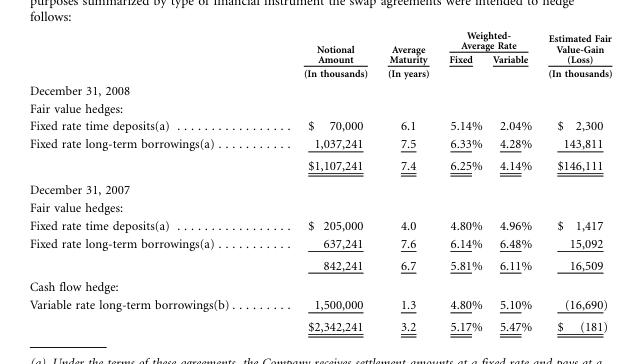table: (28, 29, 611, 333)
table column: (28, 29, 268, 333), (268, 29, 376, 333), (539, 29, 611, 333), (376, 29, 438, 333), (486, 29, 539, 333), (438, 29, 486, 333)
table column header: (28, 29, 611, 80)
table projected row header: (28, 177, 611, 198), (28, 275, 611, 295), (28, 80, 611, 99), (28, 198, 611, 216), (28, 99, 611, 116)
table row: (28, 51, 611, 80), (28, 154, 611, 177), (28, 29, 611, 51), (28, 177, 611, 198), (28, 254, 611, 275), (28, 134, 611, 154), (28, 234, 611, 254), (28, 275, 611, 295), (28, 295, 611, 315), (28, 80, 611, 99), (28, 116, 611, 134), (28, 198, 611, 216), (28, 216, 611, 234), (28, 315, 611, 333), (28, 99, 611, 116)
table spanning cell: (268, 29, 376, 80), (539, 29, 611, 80), (376, 29, 438, 80), (438, 29, 539, 51)
